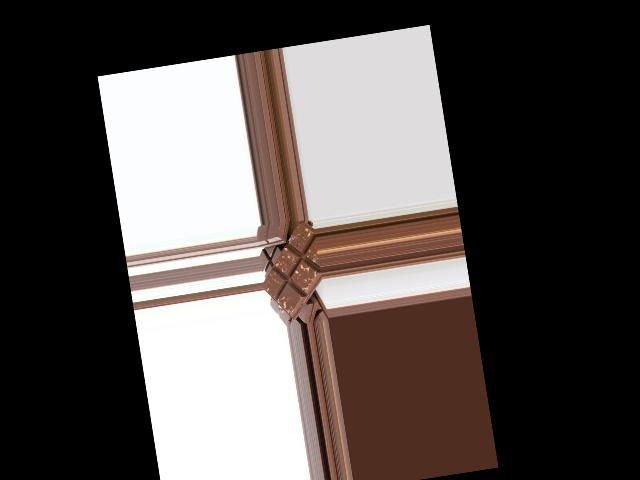chocolate: (256, 220, 327, 316)
